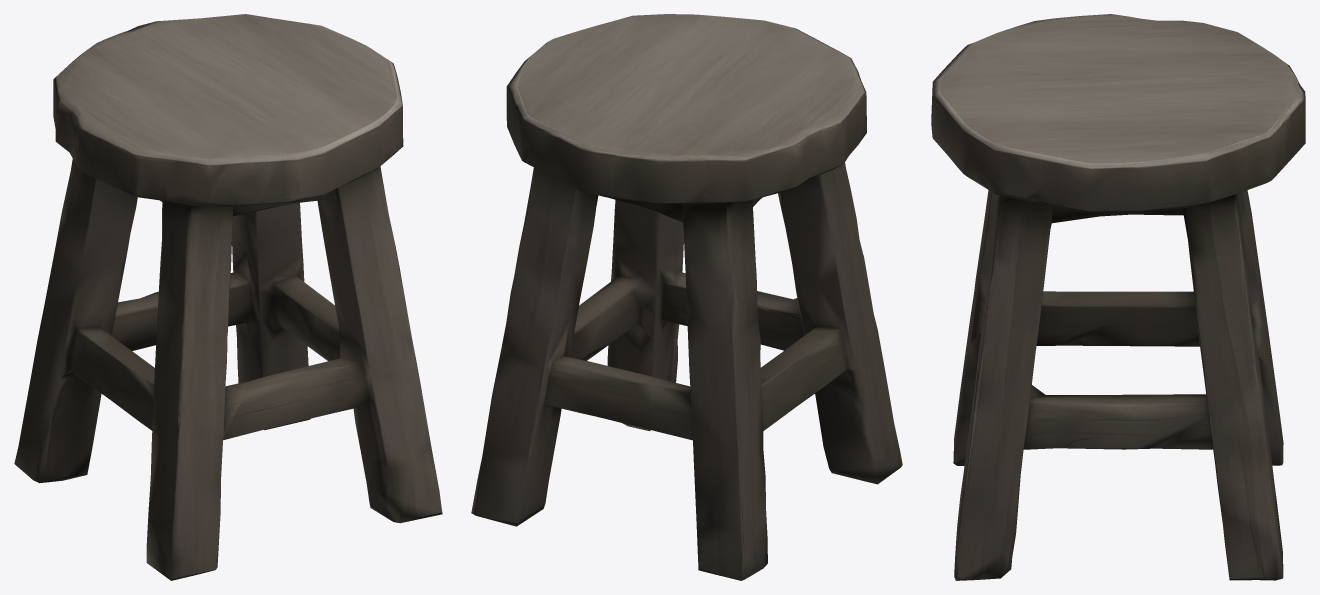
File: stool_round.glb
3 views of the same model, side by side, from view 1: azimuth 30°, elevation 25°; view 2: azimuth 150°, elevation 25°; view 3: azimuth 270°, elevation 25° (orthographic). The views are drawn at different scales.
Visible parts, largest first — view 1: tripo_node_c8649764-ae46-417c-9dcc-21ce70508927; view 2: tripo_node_c8649764-ae46-417c-9dcc-21ce70508927; view 3: tripo_node_c8649764-ae46-417c-9dcc-21ce70508927.
Boxes of the visible parts, x1=… form: tripo_node_c8649764-ae46-417c-9dcc-21ce70508927: x1=14, y1=14, x2=442, y2=580; tripo_node_c8649764-ae46-417c-9dcc-21ce70508927: x1=471, y1=14, x2=902, y2=580; tripo_node_c8649764-ae46-417c-9dcc-21ce70508927: x1=931, y1=14, x2=1305, y2=580.
Bounding box in the file's own units: 0.789 × 1 × 0.8004.
Materials: 1 (1 with a texture image).
